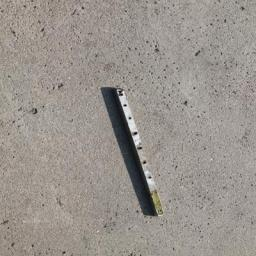FOD: (99, 84, 170, 219)
